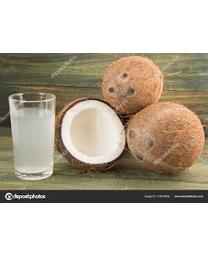coconut: (51, 97, 128, 173), (126, 100, 204, 174), (100, 55, 165, 116)
